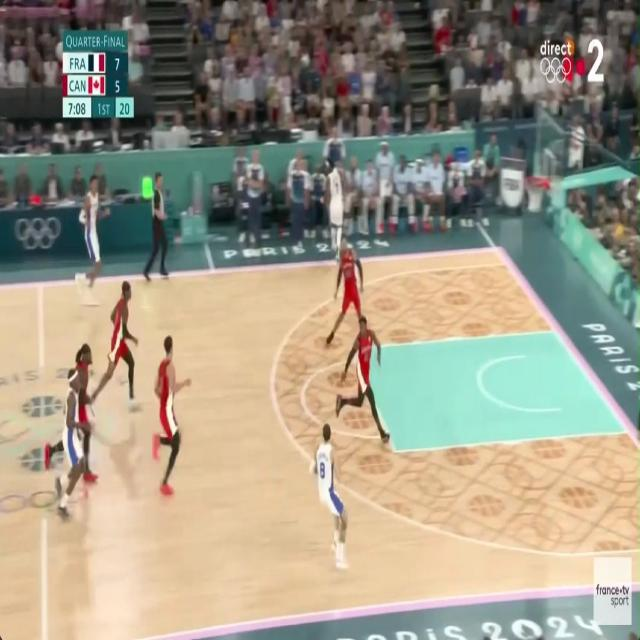ball_handler: (311, 424, 349, 571)
